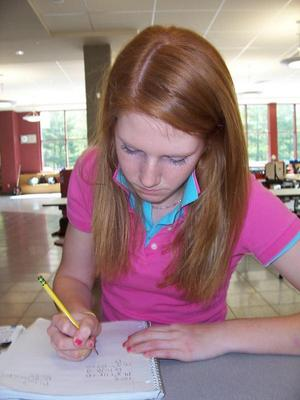person: (49, 24, 300, 365)
